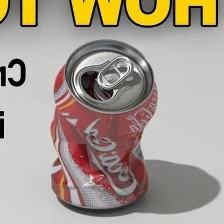can: (39, 36, 162, 218)
